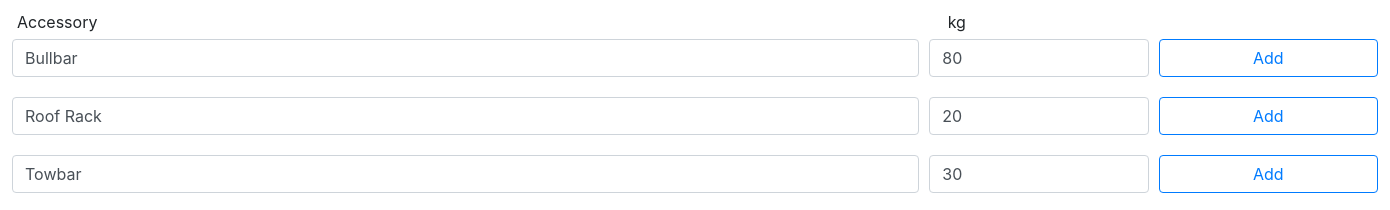
Test: Accessories Adder › Marks the accessory as added in the list when its added, even if you change its name
This screenshot has width=1390, height=210.
Replace the text in the 2nd field with placeholder "Accessory" with "RhinoRack" at (466, 116), box [12, 97, 919, 135]
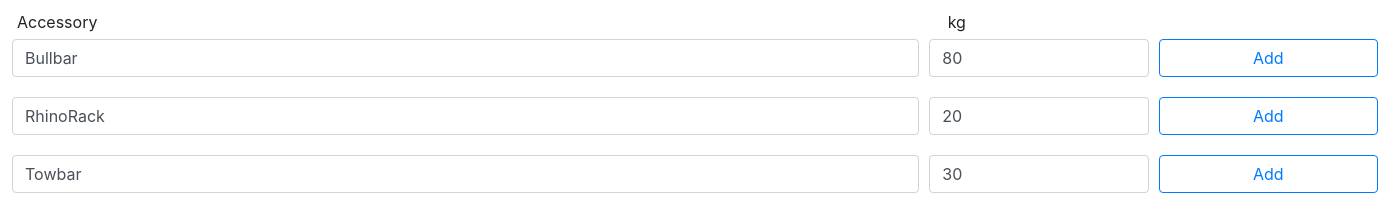
Click the 2nd button with test id "btn-acc-off" at (1268, 116), box [1159, 97, 1378, 135]
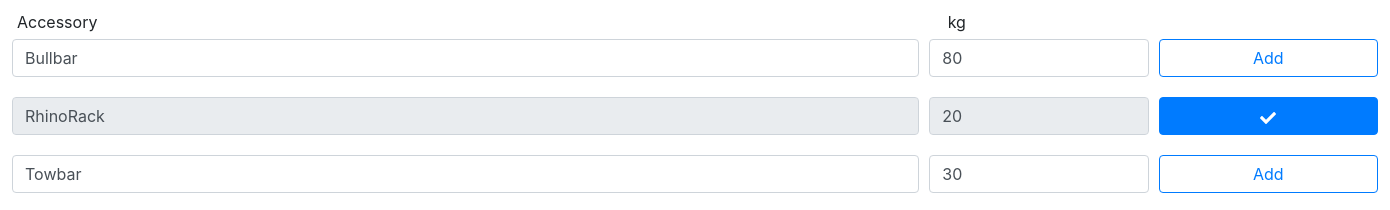
Expected: the number of fields with placeholder "Accessory" is 3, [12, 39, 919, 77]; [12, 97, 919, 135]; [12, 155, 919, 193]
Result: the number of buttons with test id "btn-acc-on" is 1 at [1159, 97, 1378, 135]
Result: the number of buttons with test id "btn-acc-off" is 2 at [1159, 39, 1378, 77]; [1159, 155, 1378, 193]
